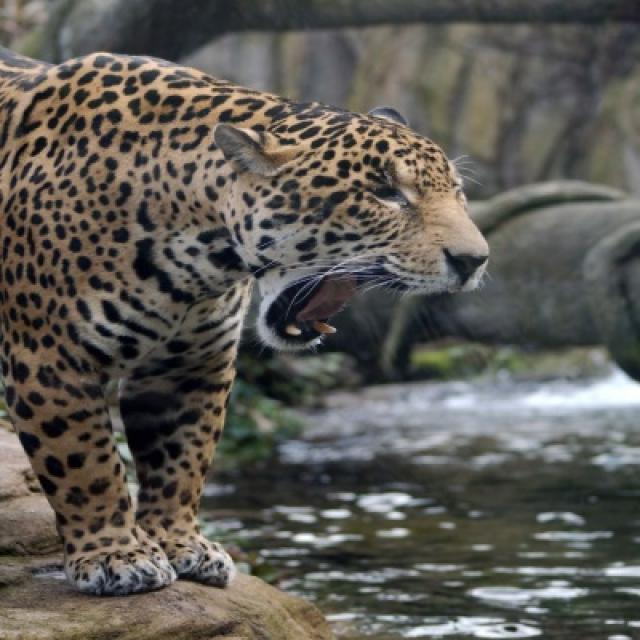Jaguar: (0, 45, 490, 600)
